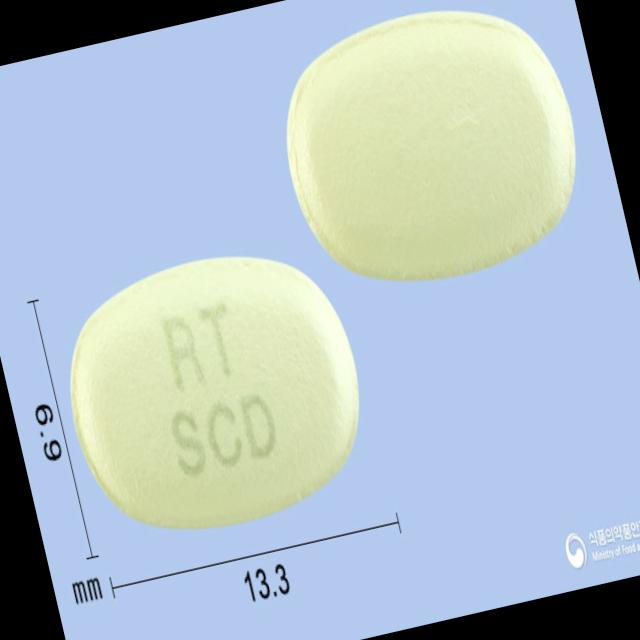Retos Tab: (43, 228, 382, 548)
